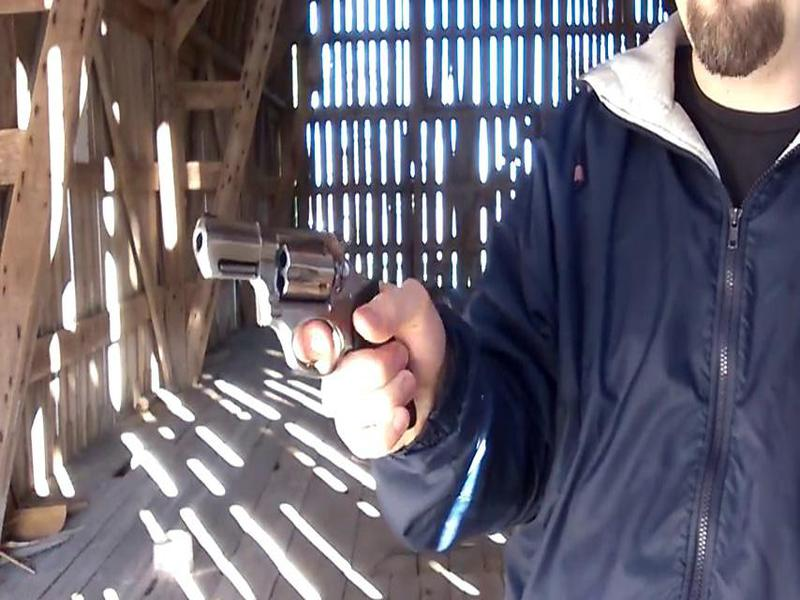Revolver: (187, 200, 425, 457)
